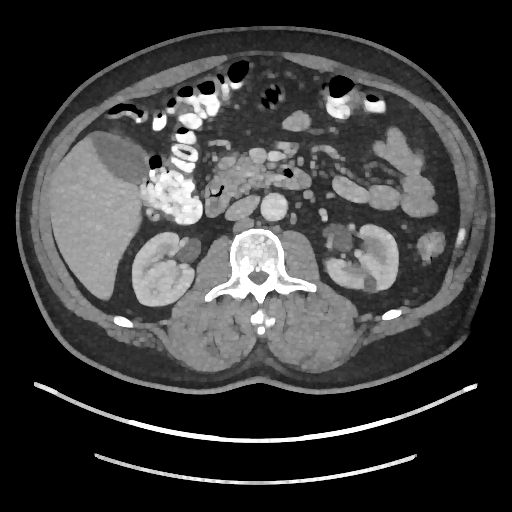Lesion: (361, 275, 380, 295)
